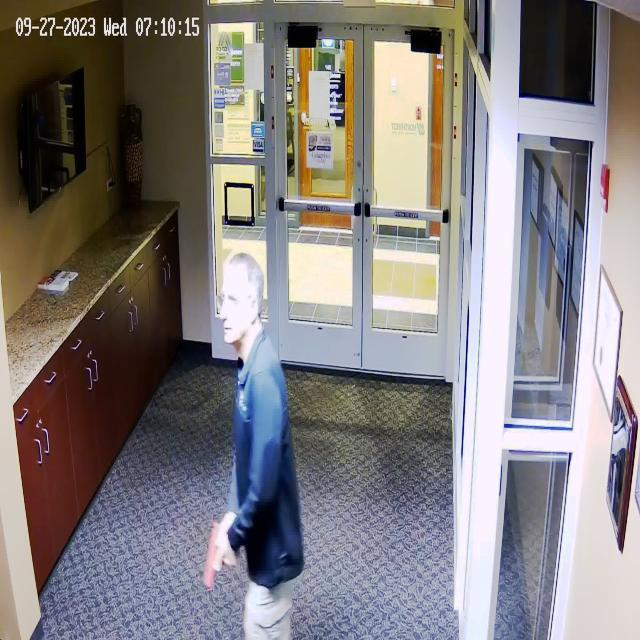Gun: (198, 524, 239, 594)
